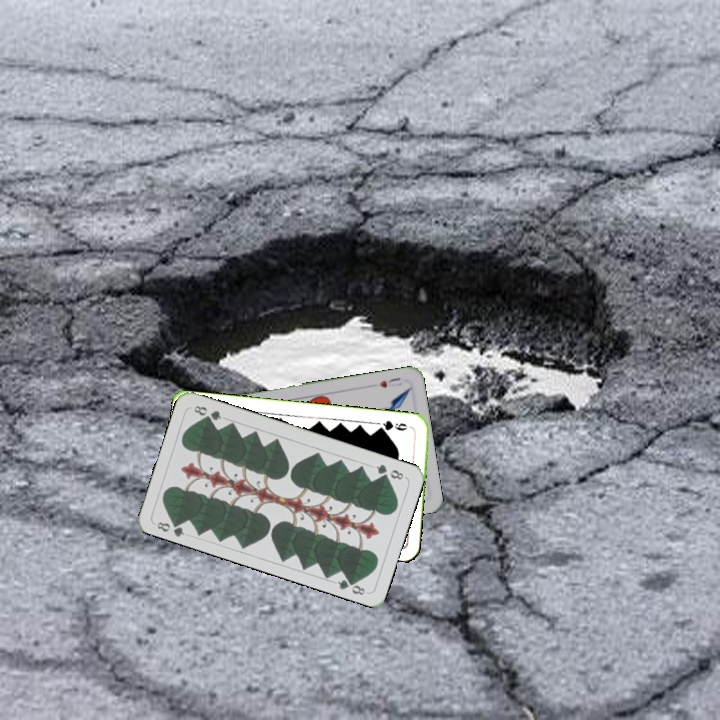G8: (153, 515, 187, 539), (372, 460, 406, 482)
G9: (374, 417, 410, 433)
HU: (375, 373, 404, 390)
